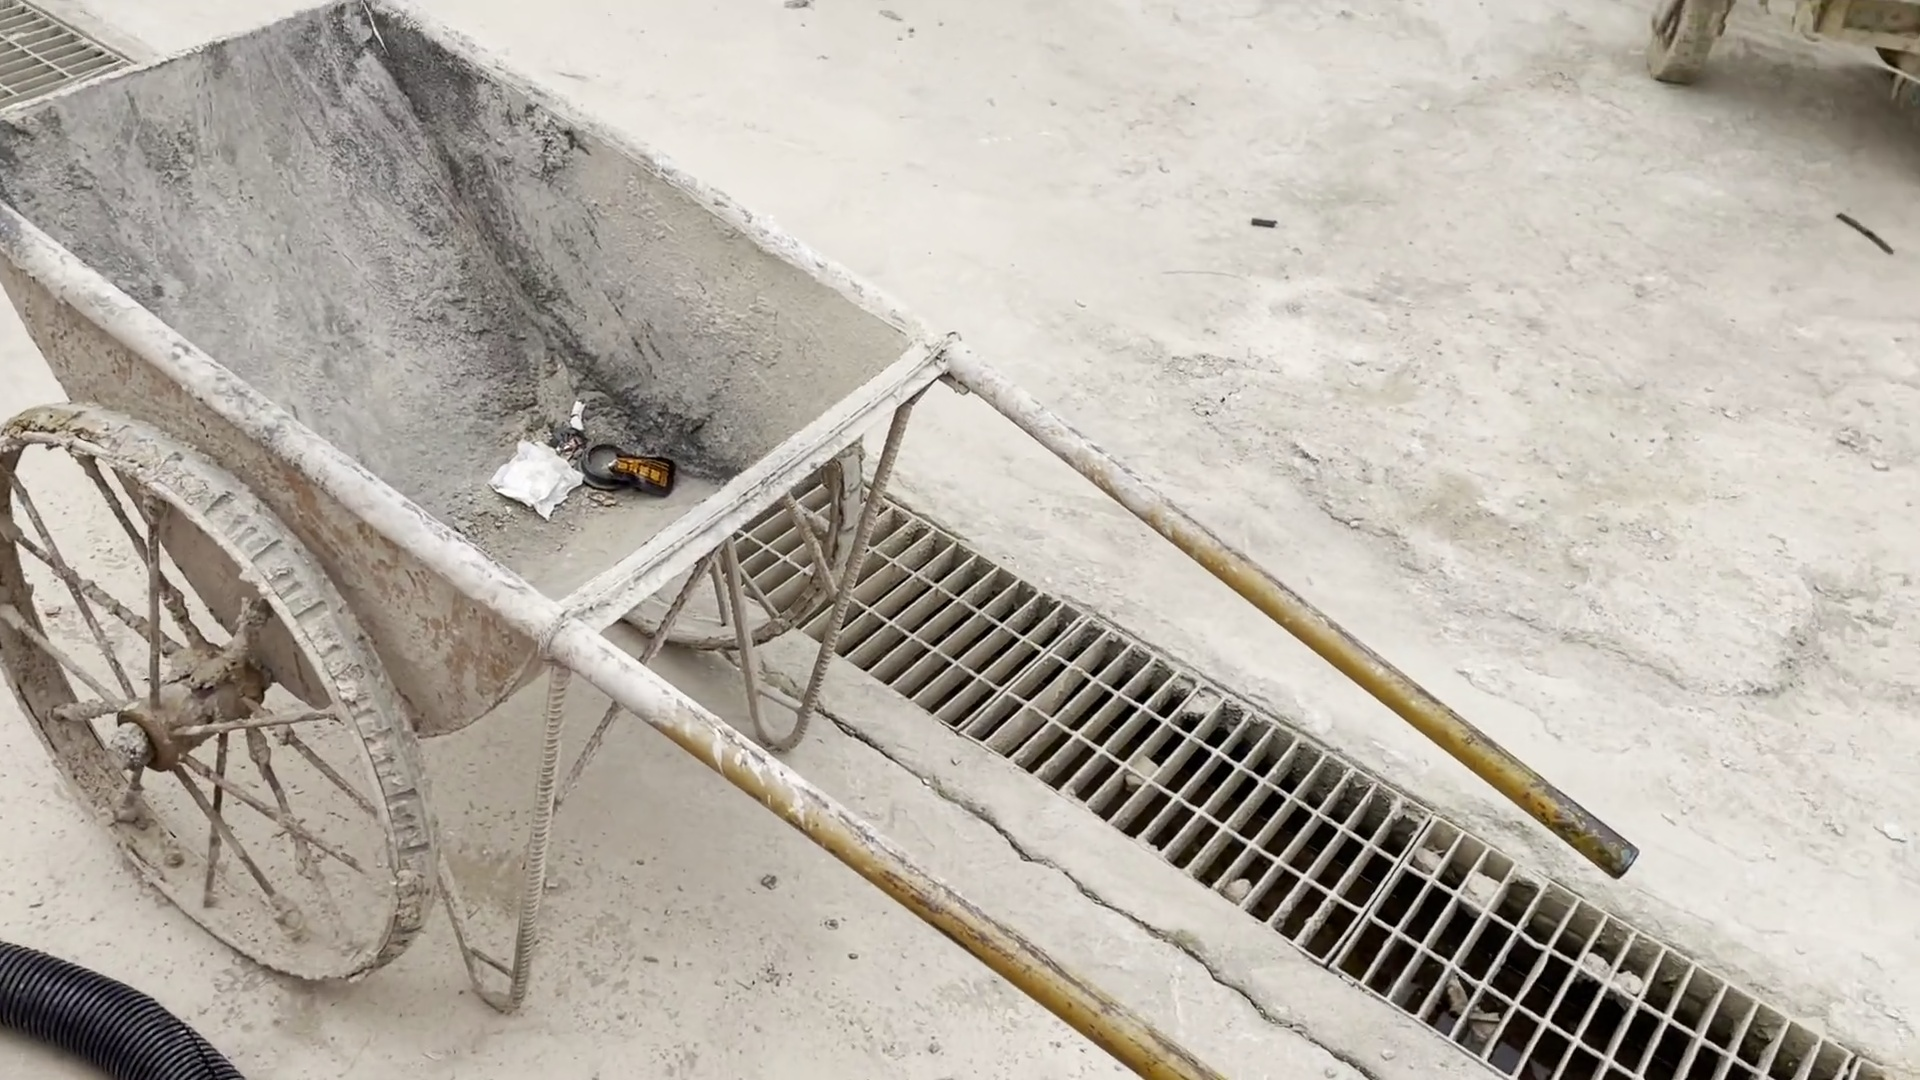handcart: (7, 16, 1696, 1080)
